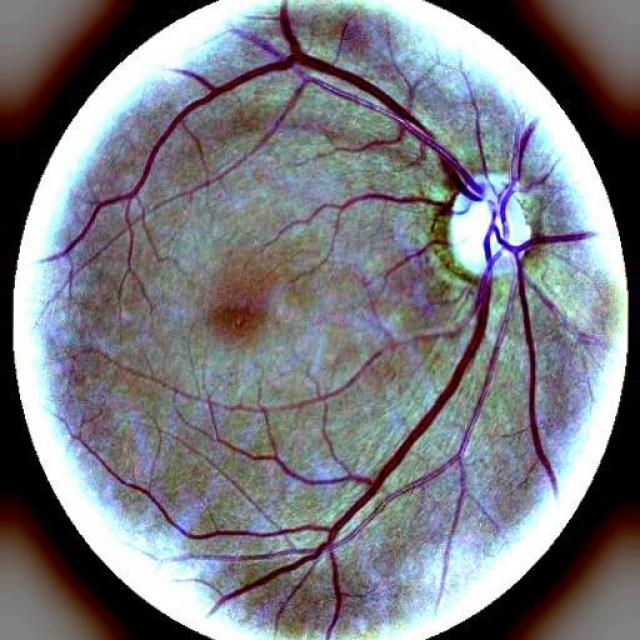Macula: (212, 304, 256, 336)
Nerves: (58, 5, 594, 638), (50, 1, 478, 259), (430, 312, 506, 476)
Optic Disk: (448, 174, 530, 276)
